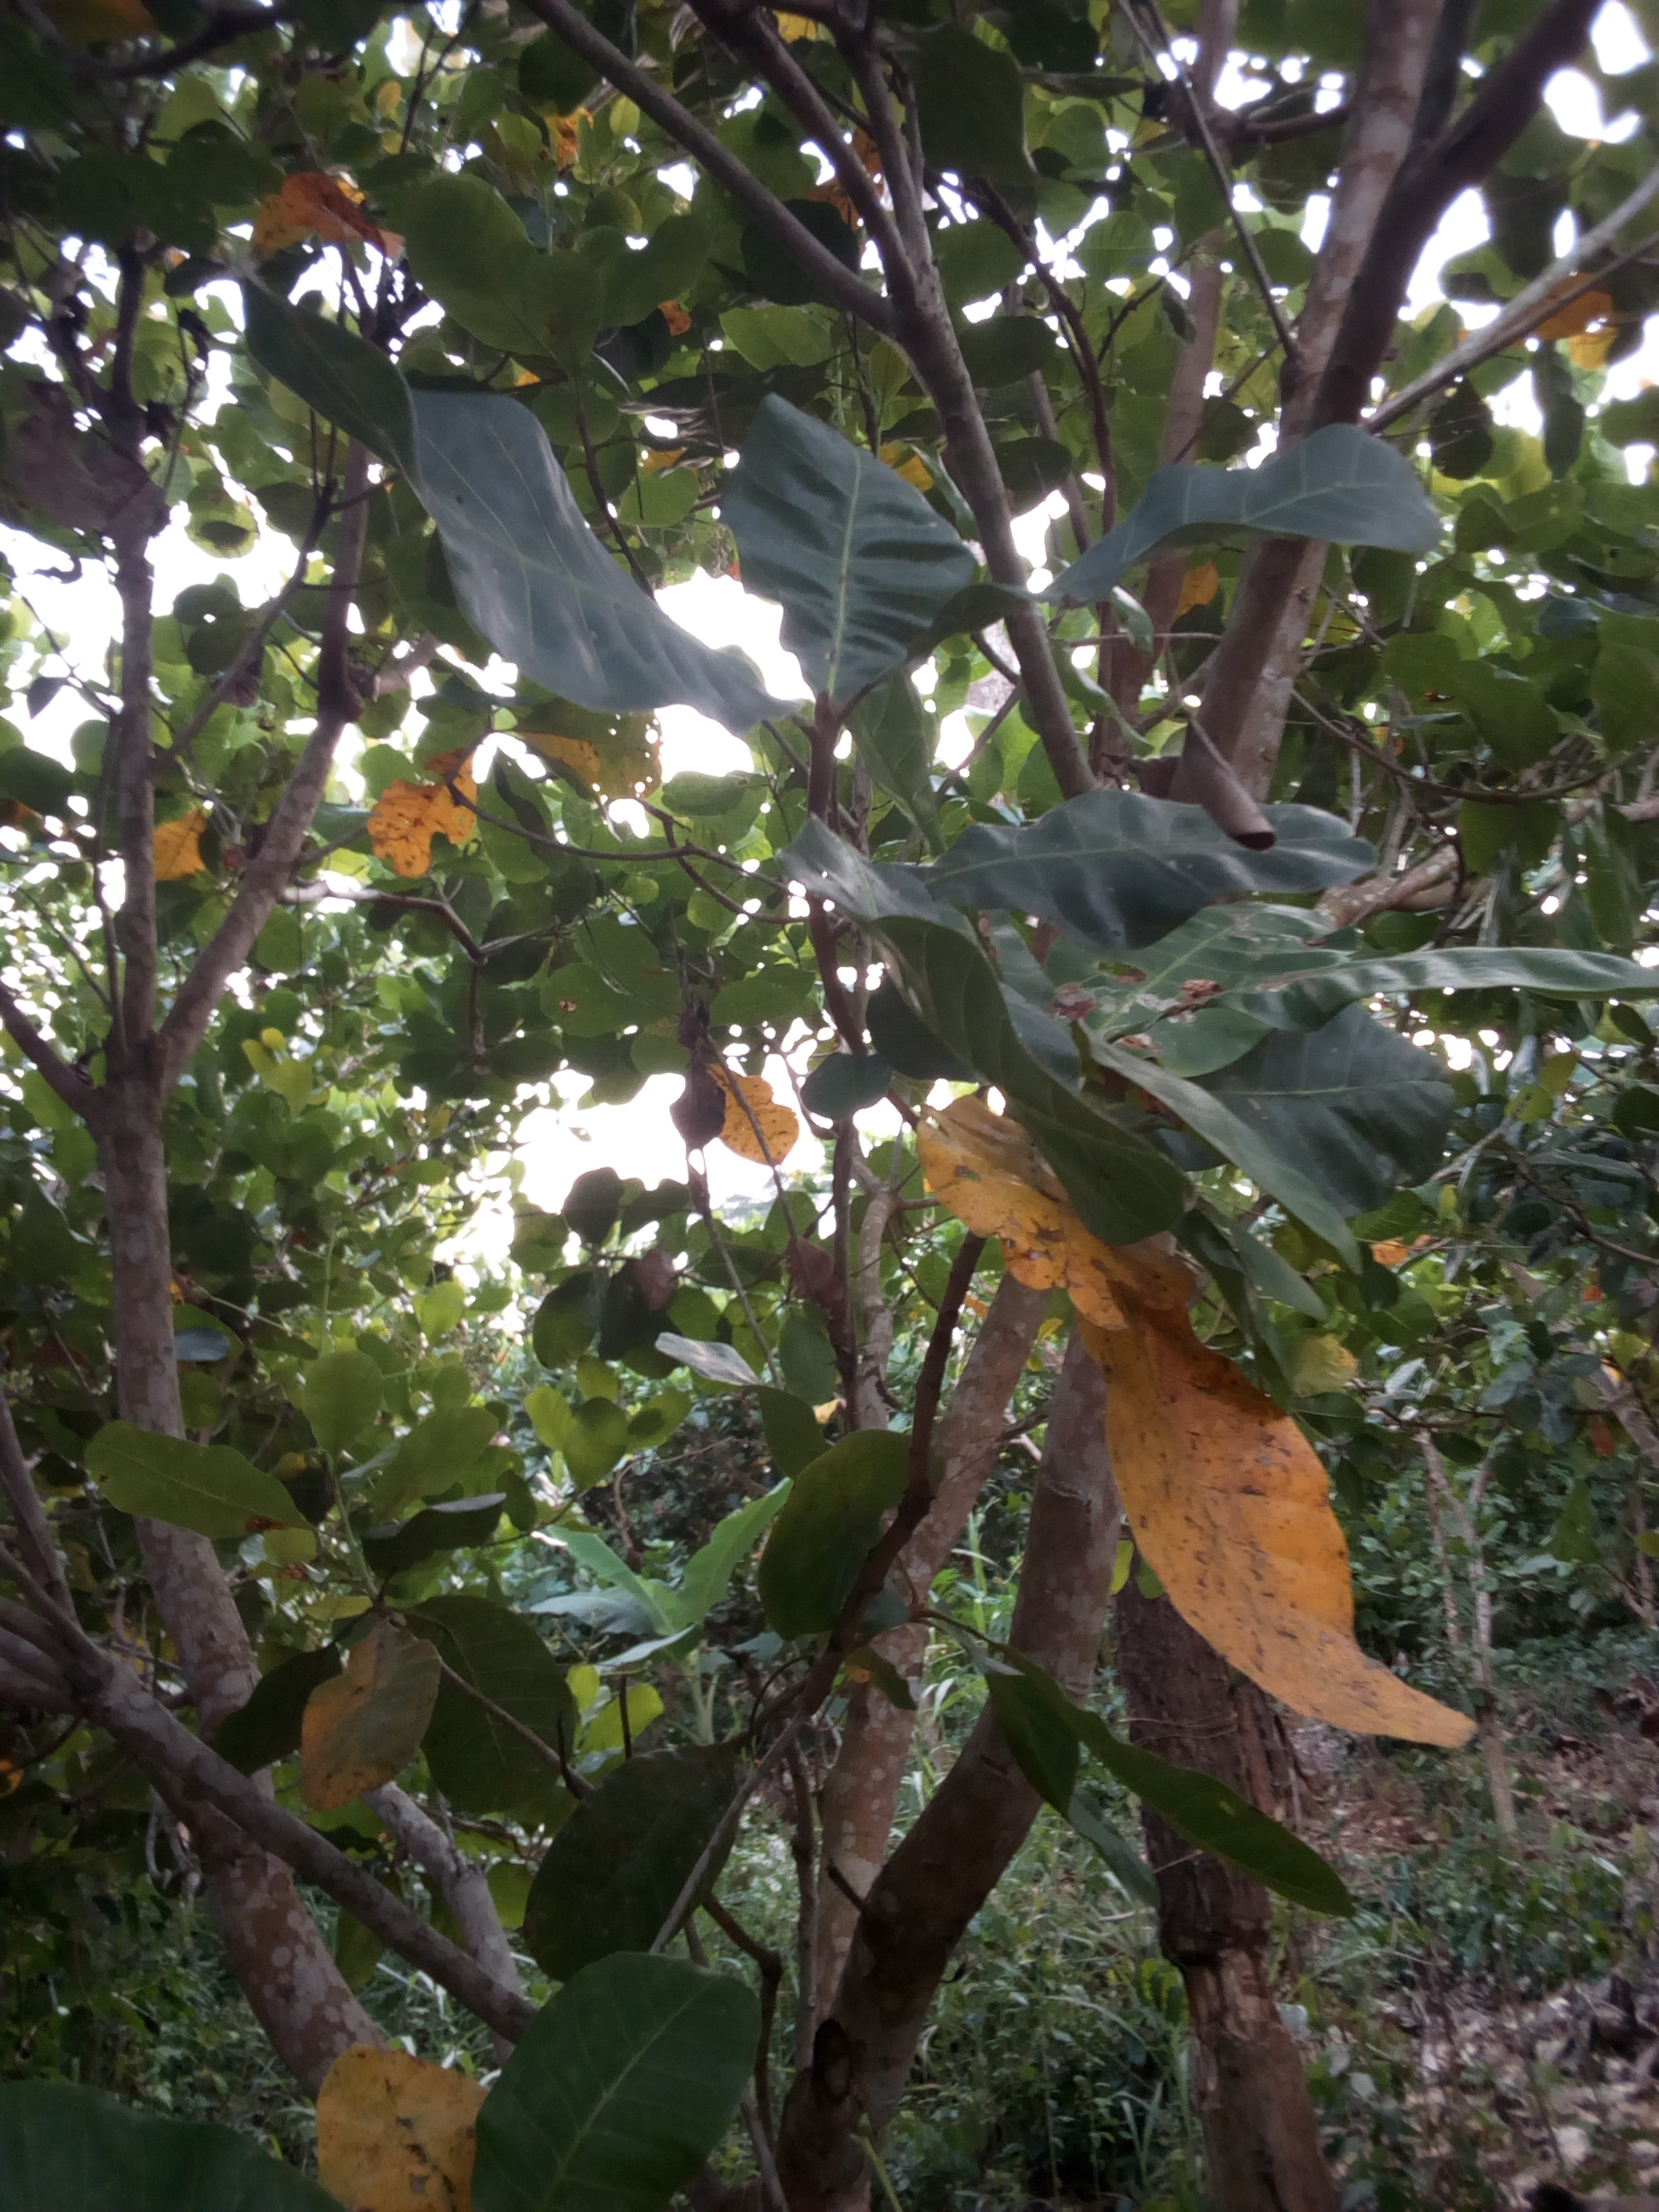Anthracnose: (1087, 1285, 1480, 1750), (1042, 899, 1335, 1075), (911, 1099, 1134, 1299)
